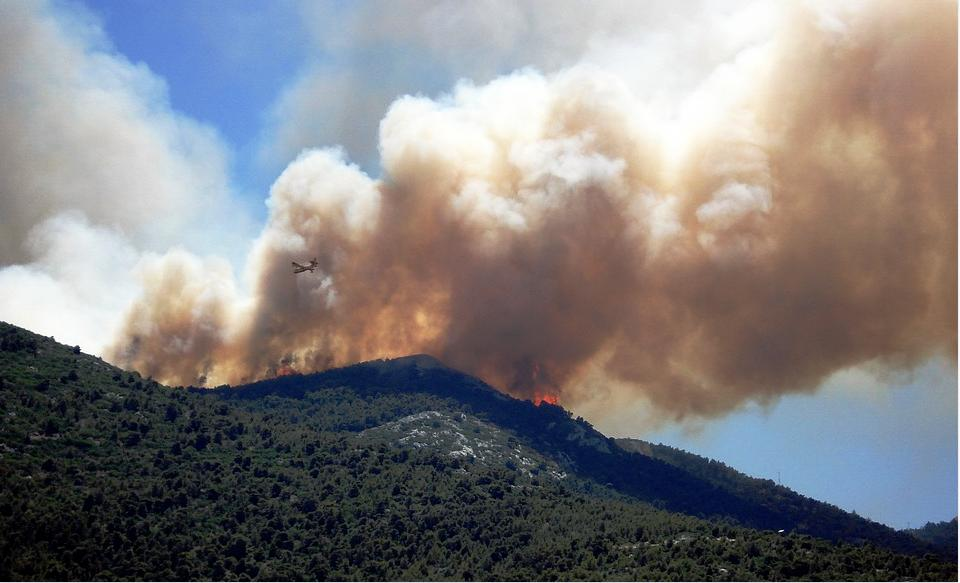fire: (506, 373, 589, 427)
smoke: (127, 9, 960, 446)
